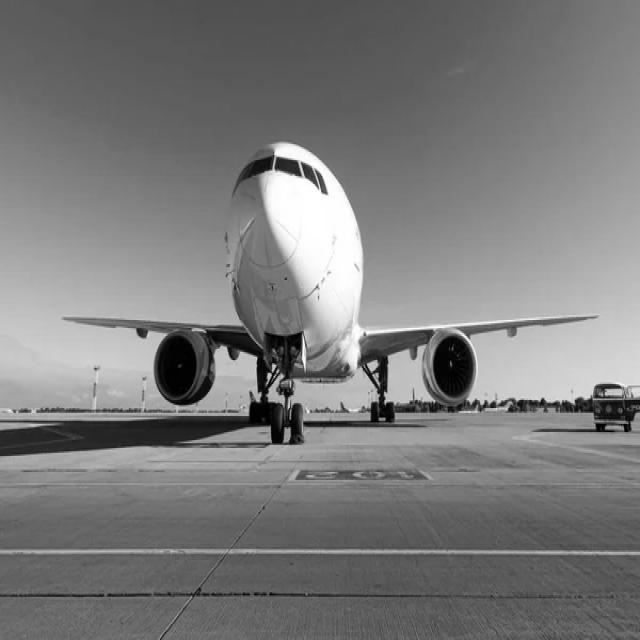Aircraft: (65, 133, 588, 446)
